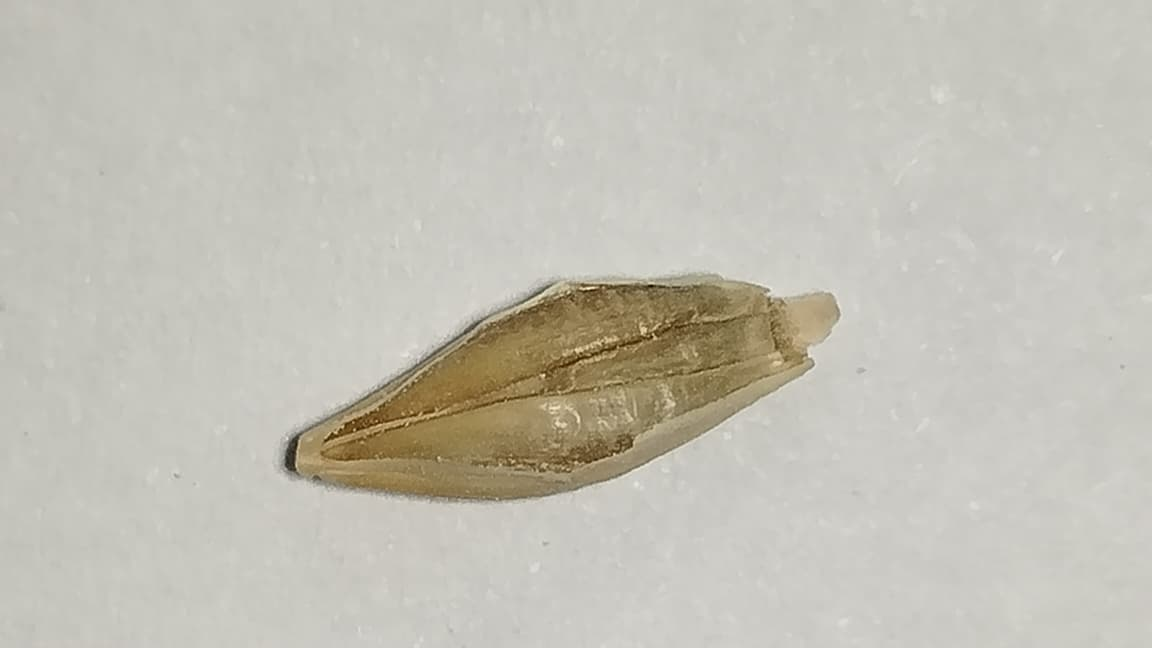healthy-70-60: (295, 275, 838, 498)
